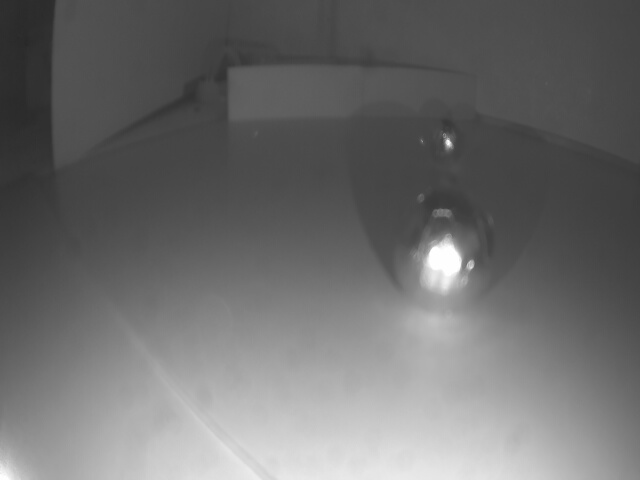Red: (229, 63, 479, 122)
